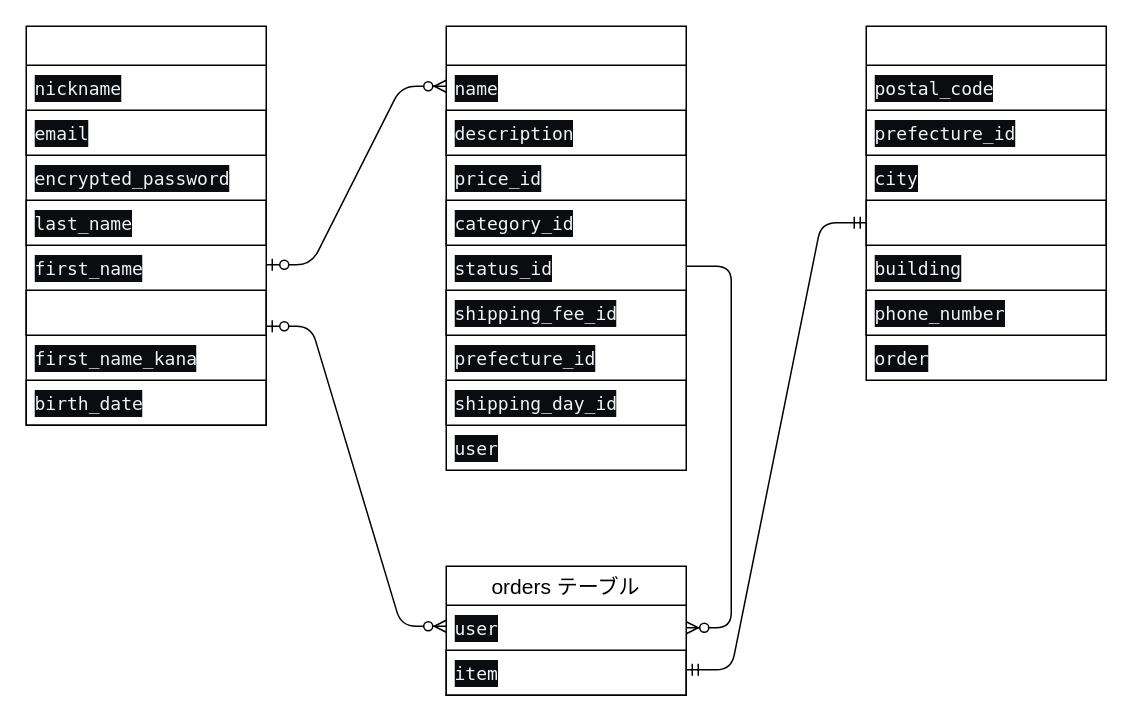
Image size: 1133x726. Some labels were removed from this diagram. Each missing label, with the box of its shape:
addresses テーブル: (865, 25, 1106, 380)
house_number: (865, 199, 1106, 245)
items テーブル: (445, 25, 686, 470)
last_name_kana: (25, 289, 266, 335)
users テーブル: (25, 25, 266, 425)
